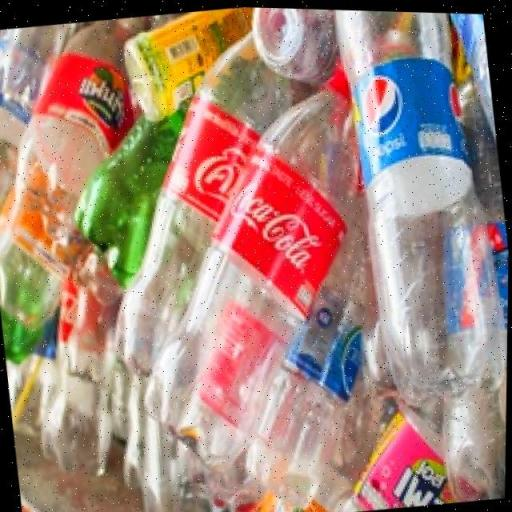plastic: (129, 55, 408, 473), (318, 8, 512, 414), (93, 17, 307, 381), (0, 24, 166, 326)
